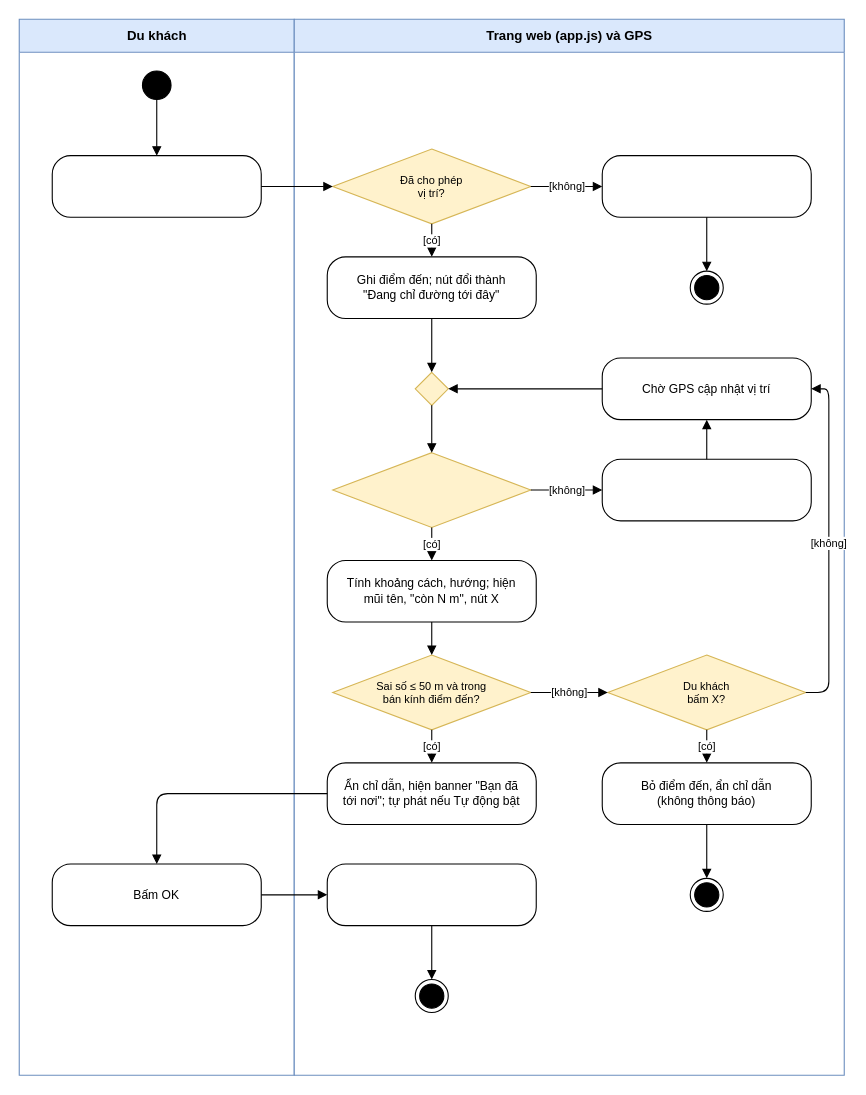
The diagram is 866 pixels wide and 1095 high, and some of its shapes have lost their labels. Each missing label, with the centre of its shape:
Bấm "Chọn làm điểm đến" trên thẻ điểm: the point at 156,186
Hiện "<Tên>: đang xác định vị trí…": the point at 706,489
Nút bị khóa: "Cần quyền vị trí để chỉ đường": the point at 706,186
Đã có vị trí?: the point at 431,489
Ẩn banner: the point at 431,894
